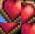heart: (0, 0, 21, 23), (21, 0, 35, 23), (0, 23, 21, 34), (21, 23, 35, 34)
